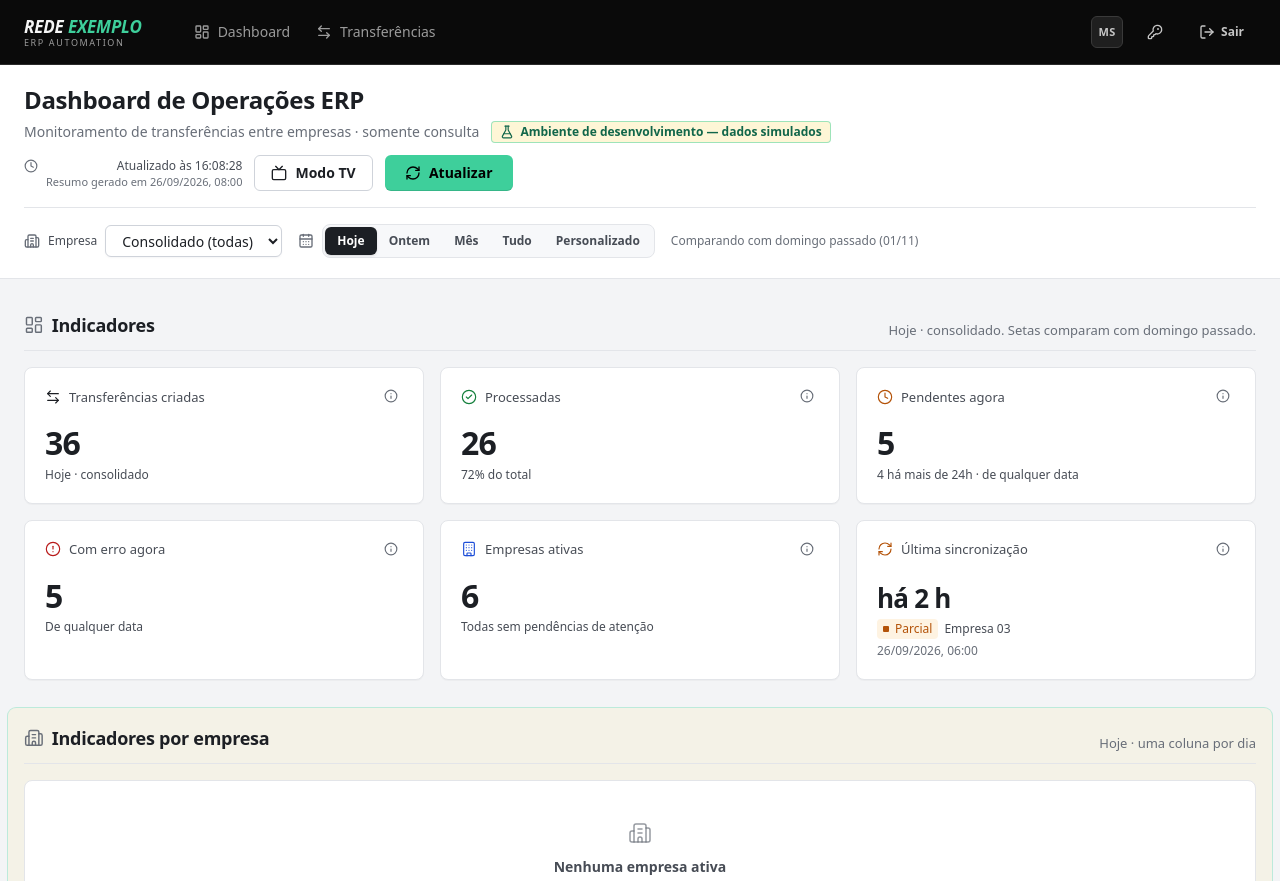
Test: DashboardPage — resumo operacional › mantém os últimos dados e avisa quando a atualização falha
Expected: the text "36" is shown, x1=45 y1=421 x2=80 y2=464
Click the button "Atualizar": (449, 173) x1=385 y1=155 x2=513 y2=191
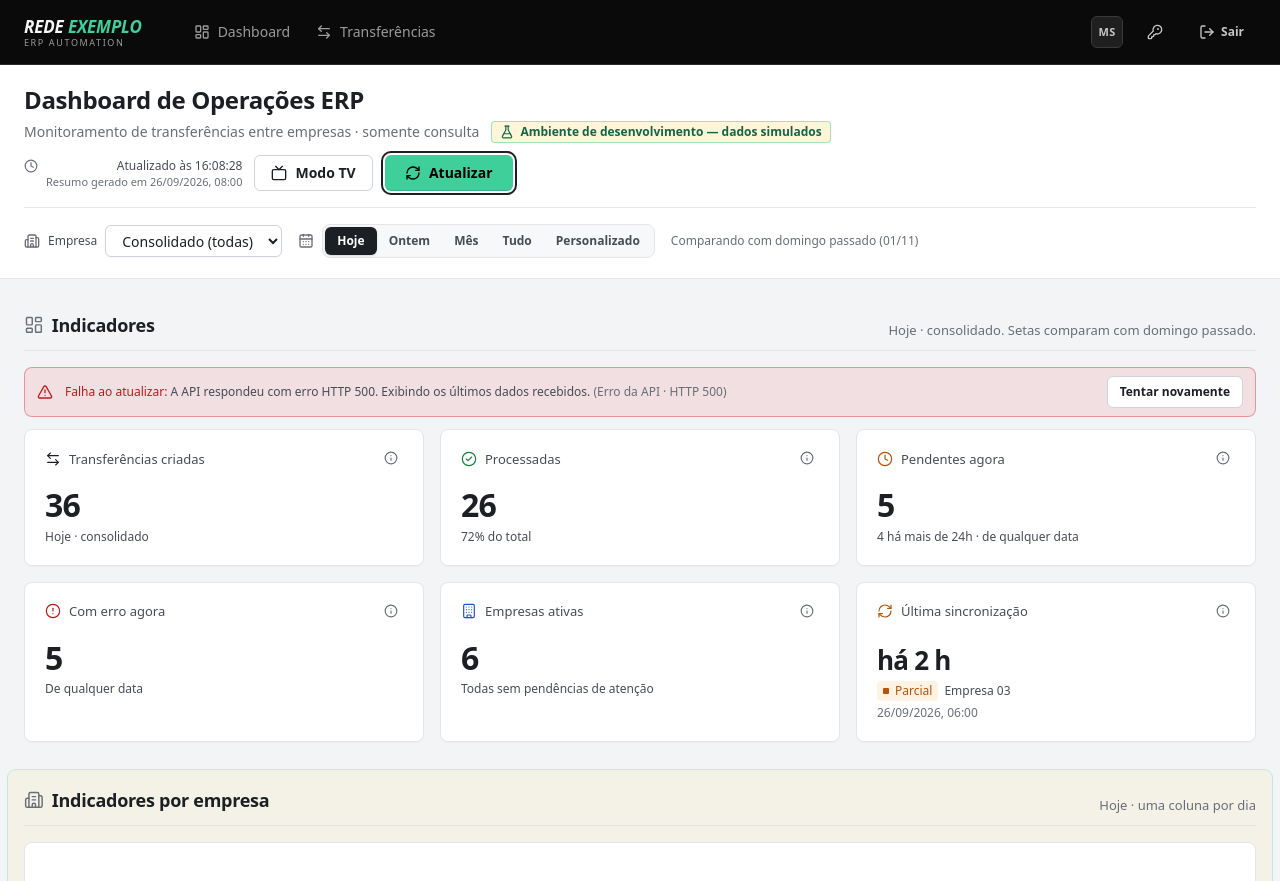
Expected: the text "36" is shown, x1=45 y1=483 x2=80 y2=526
Now the text "Falha ao atualizar" shows "HTTP 500", box x1=170 y1=383 x2=378 y2=400
